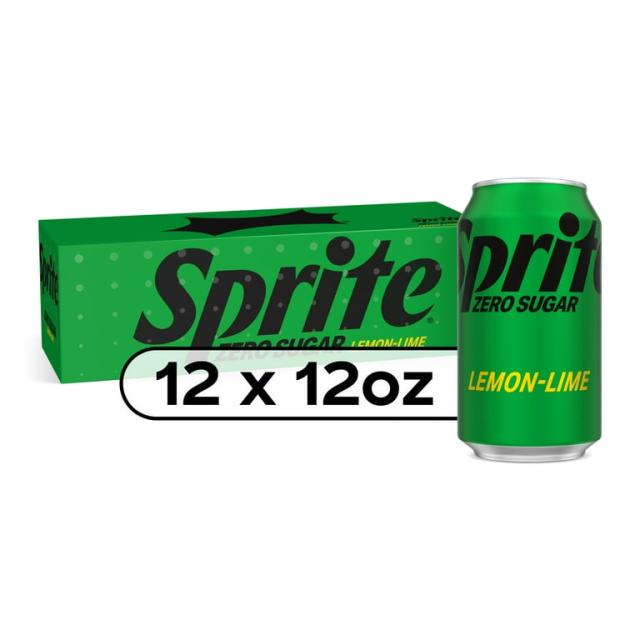sprite: (442, 179, 606, 458)
